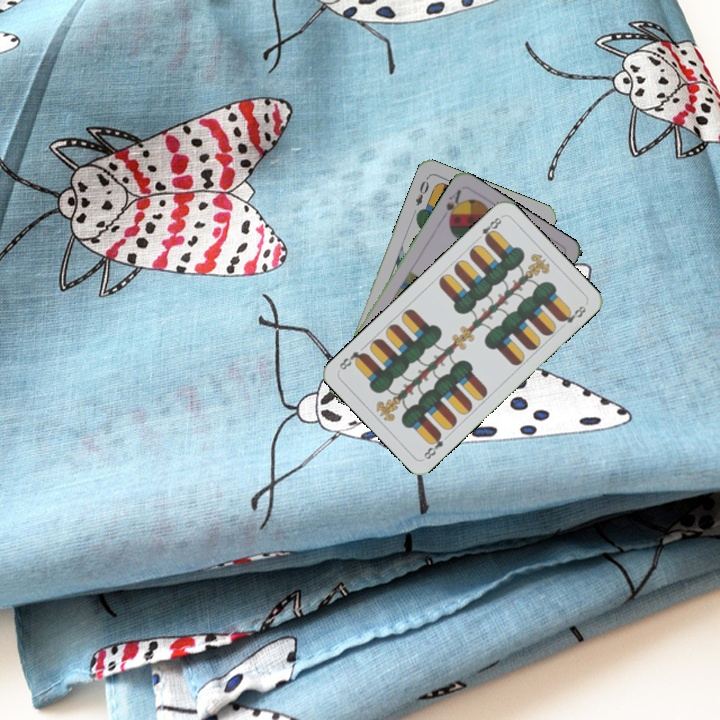E8: (472, 212, 505, 244), (420, 428, 446, 462)
EO: (411, 173, 432, 208)
SA: (438, 186, 465, 225)
